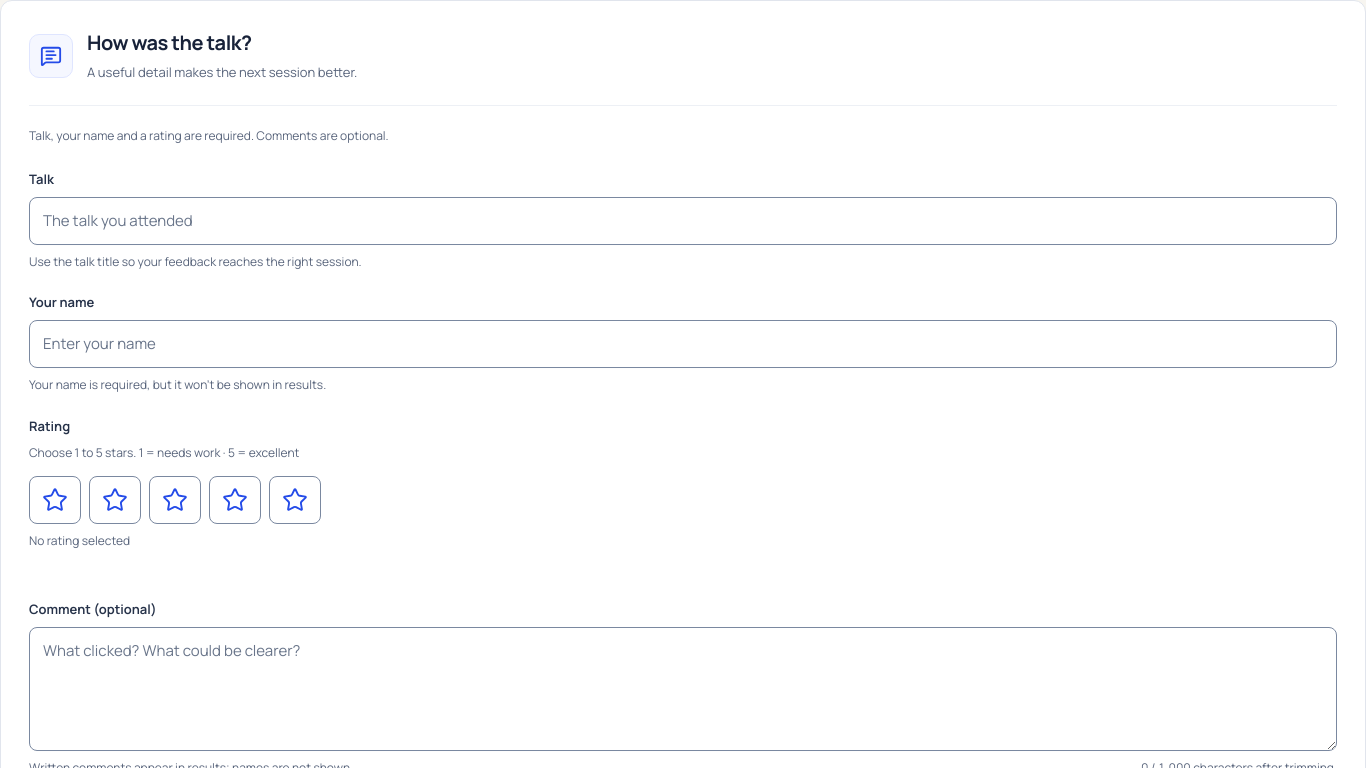
it: retains values and server field errors on rejection
Type "  Engineering bots  " into the field labelled "Talk" at x=683, y=221, box [29, 197, 1337, 245]
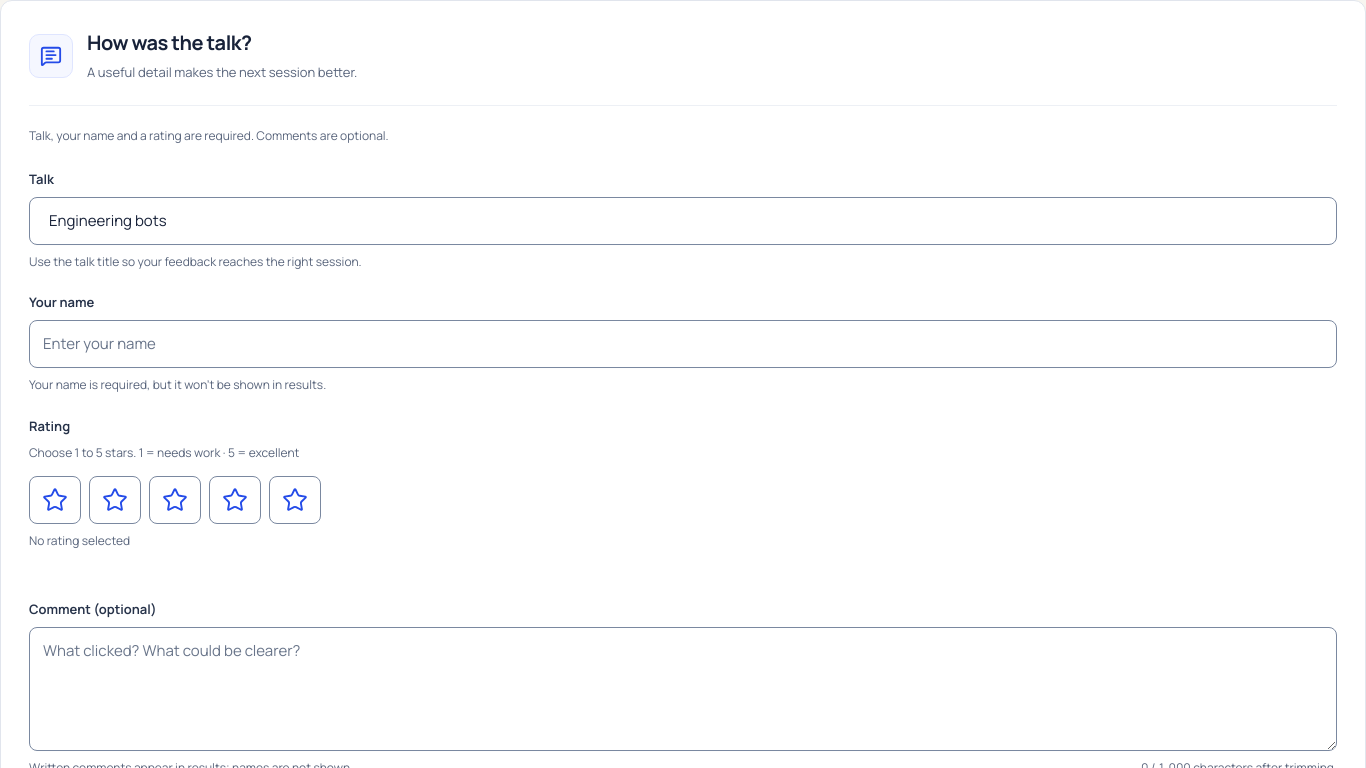
Type "  Ana  " into the field labelled "Your name" at x=683, y=344, box [29, 320, 1337, 368]
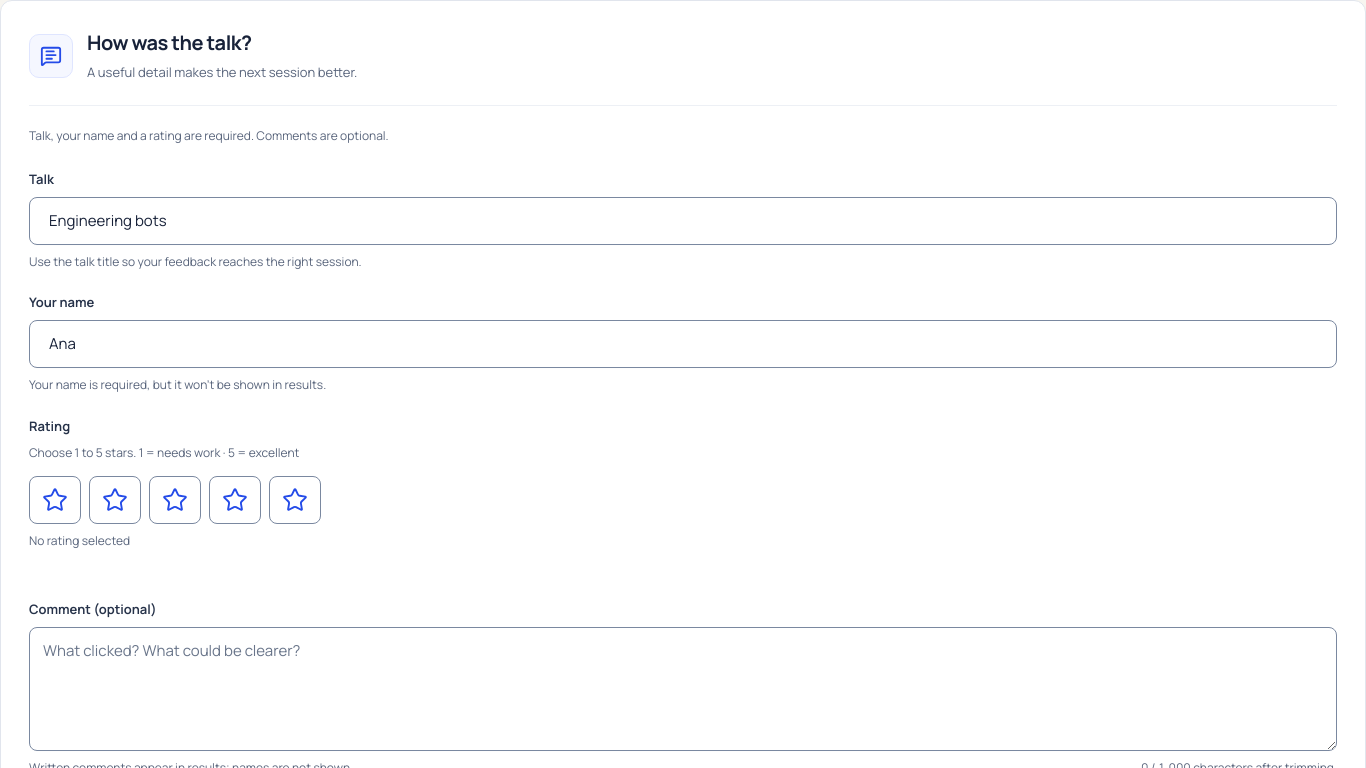
Type "  Useful workshop  " into the text box labelled "Comment (optional)" at x=683, y=689, box [29, 627, 1337, 751]
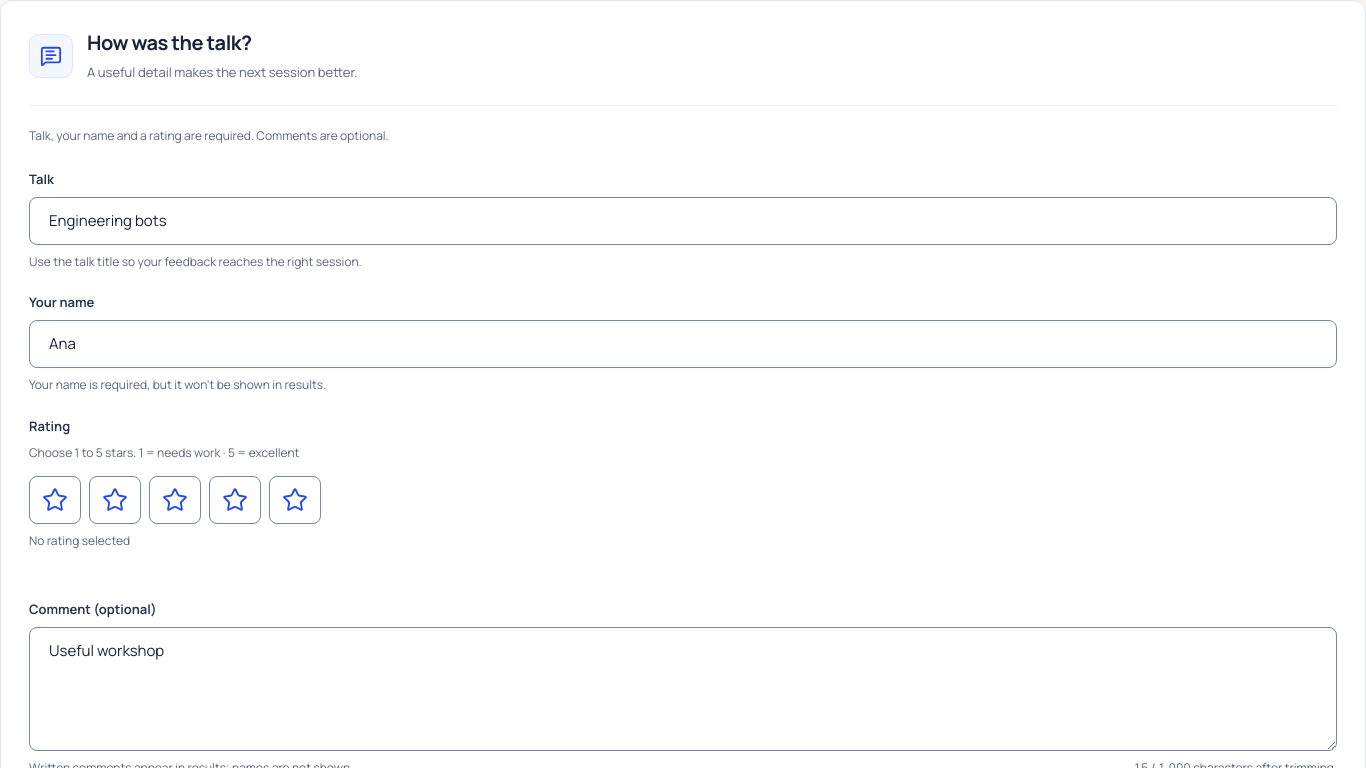
Click the radio button named "5 stars" at x=295, y=500, box [269, 476, 321, 524]
(page scrolled)
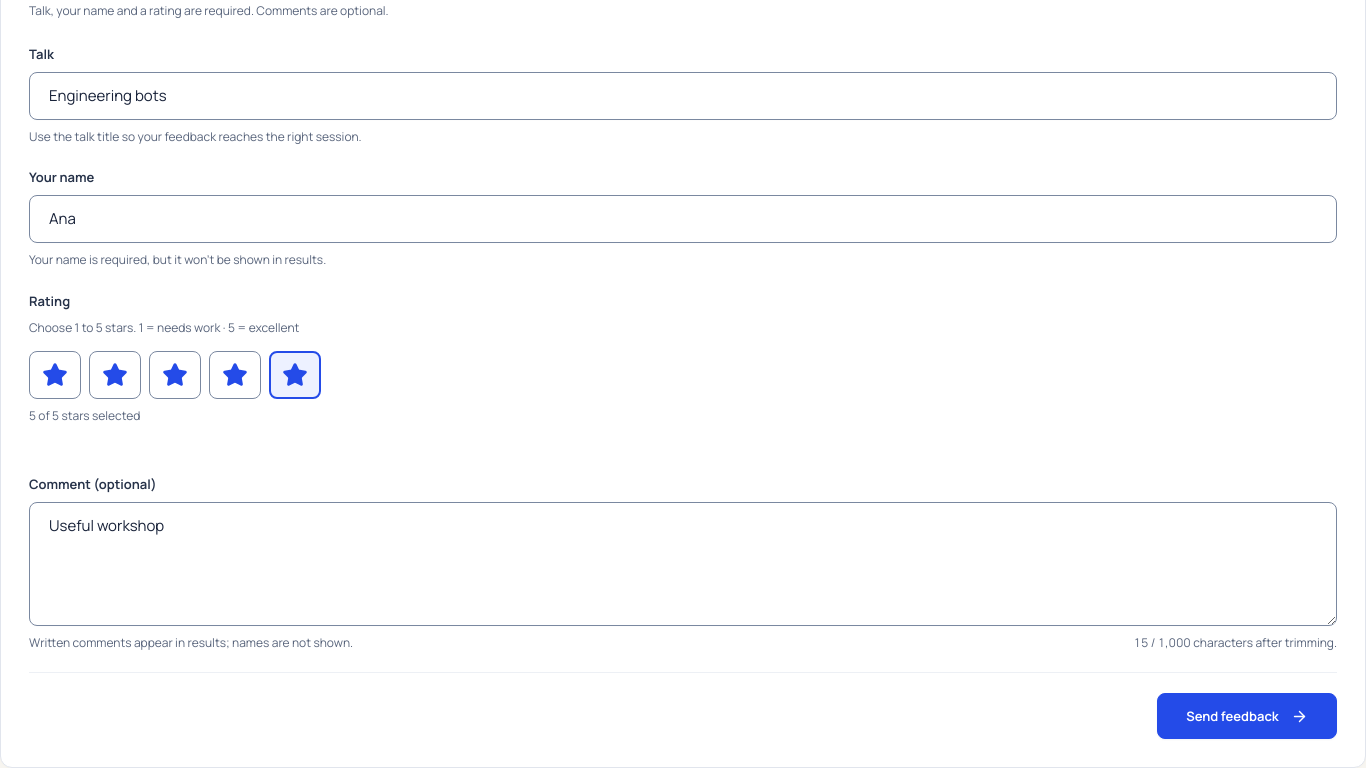
Click the button "Send feedback" at x=1247, y=716, box [1157, 693, 1337, 739]
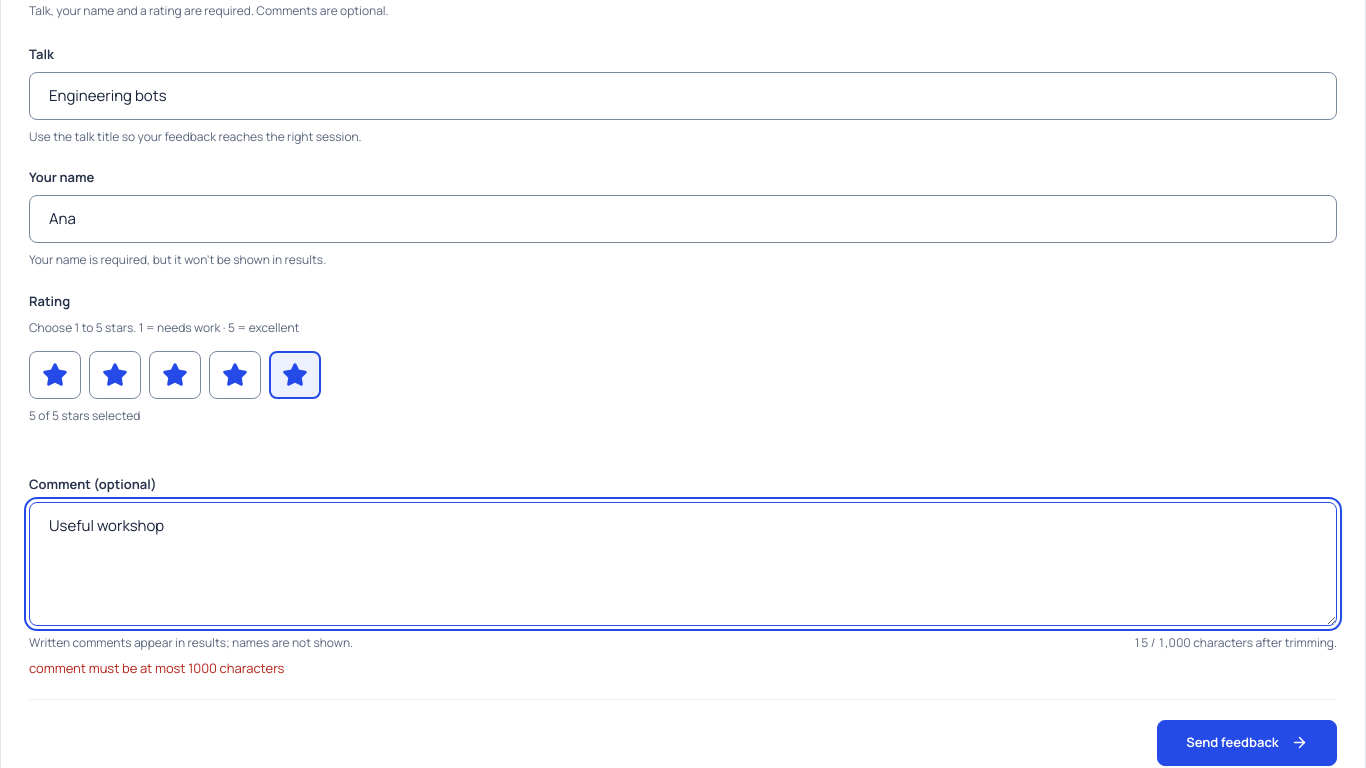
Result: the text "comment must be at most 1000 characters" is shown at [29, 659, 284, 677]
